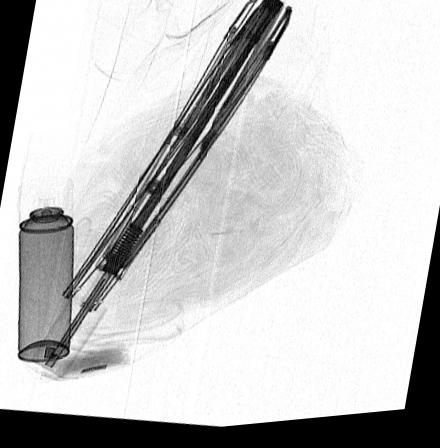Sprayer: (14, 178, 73, 364)
